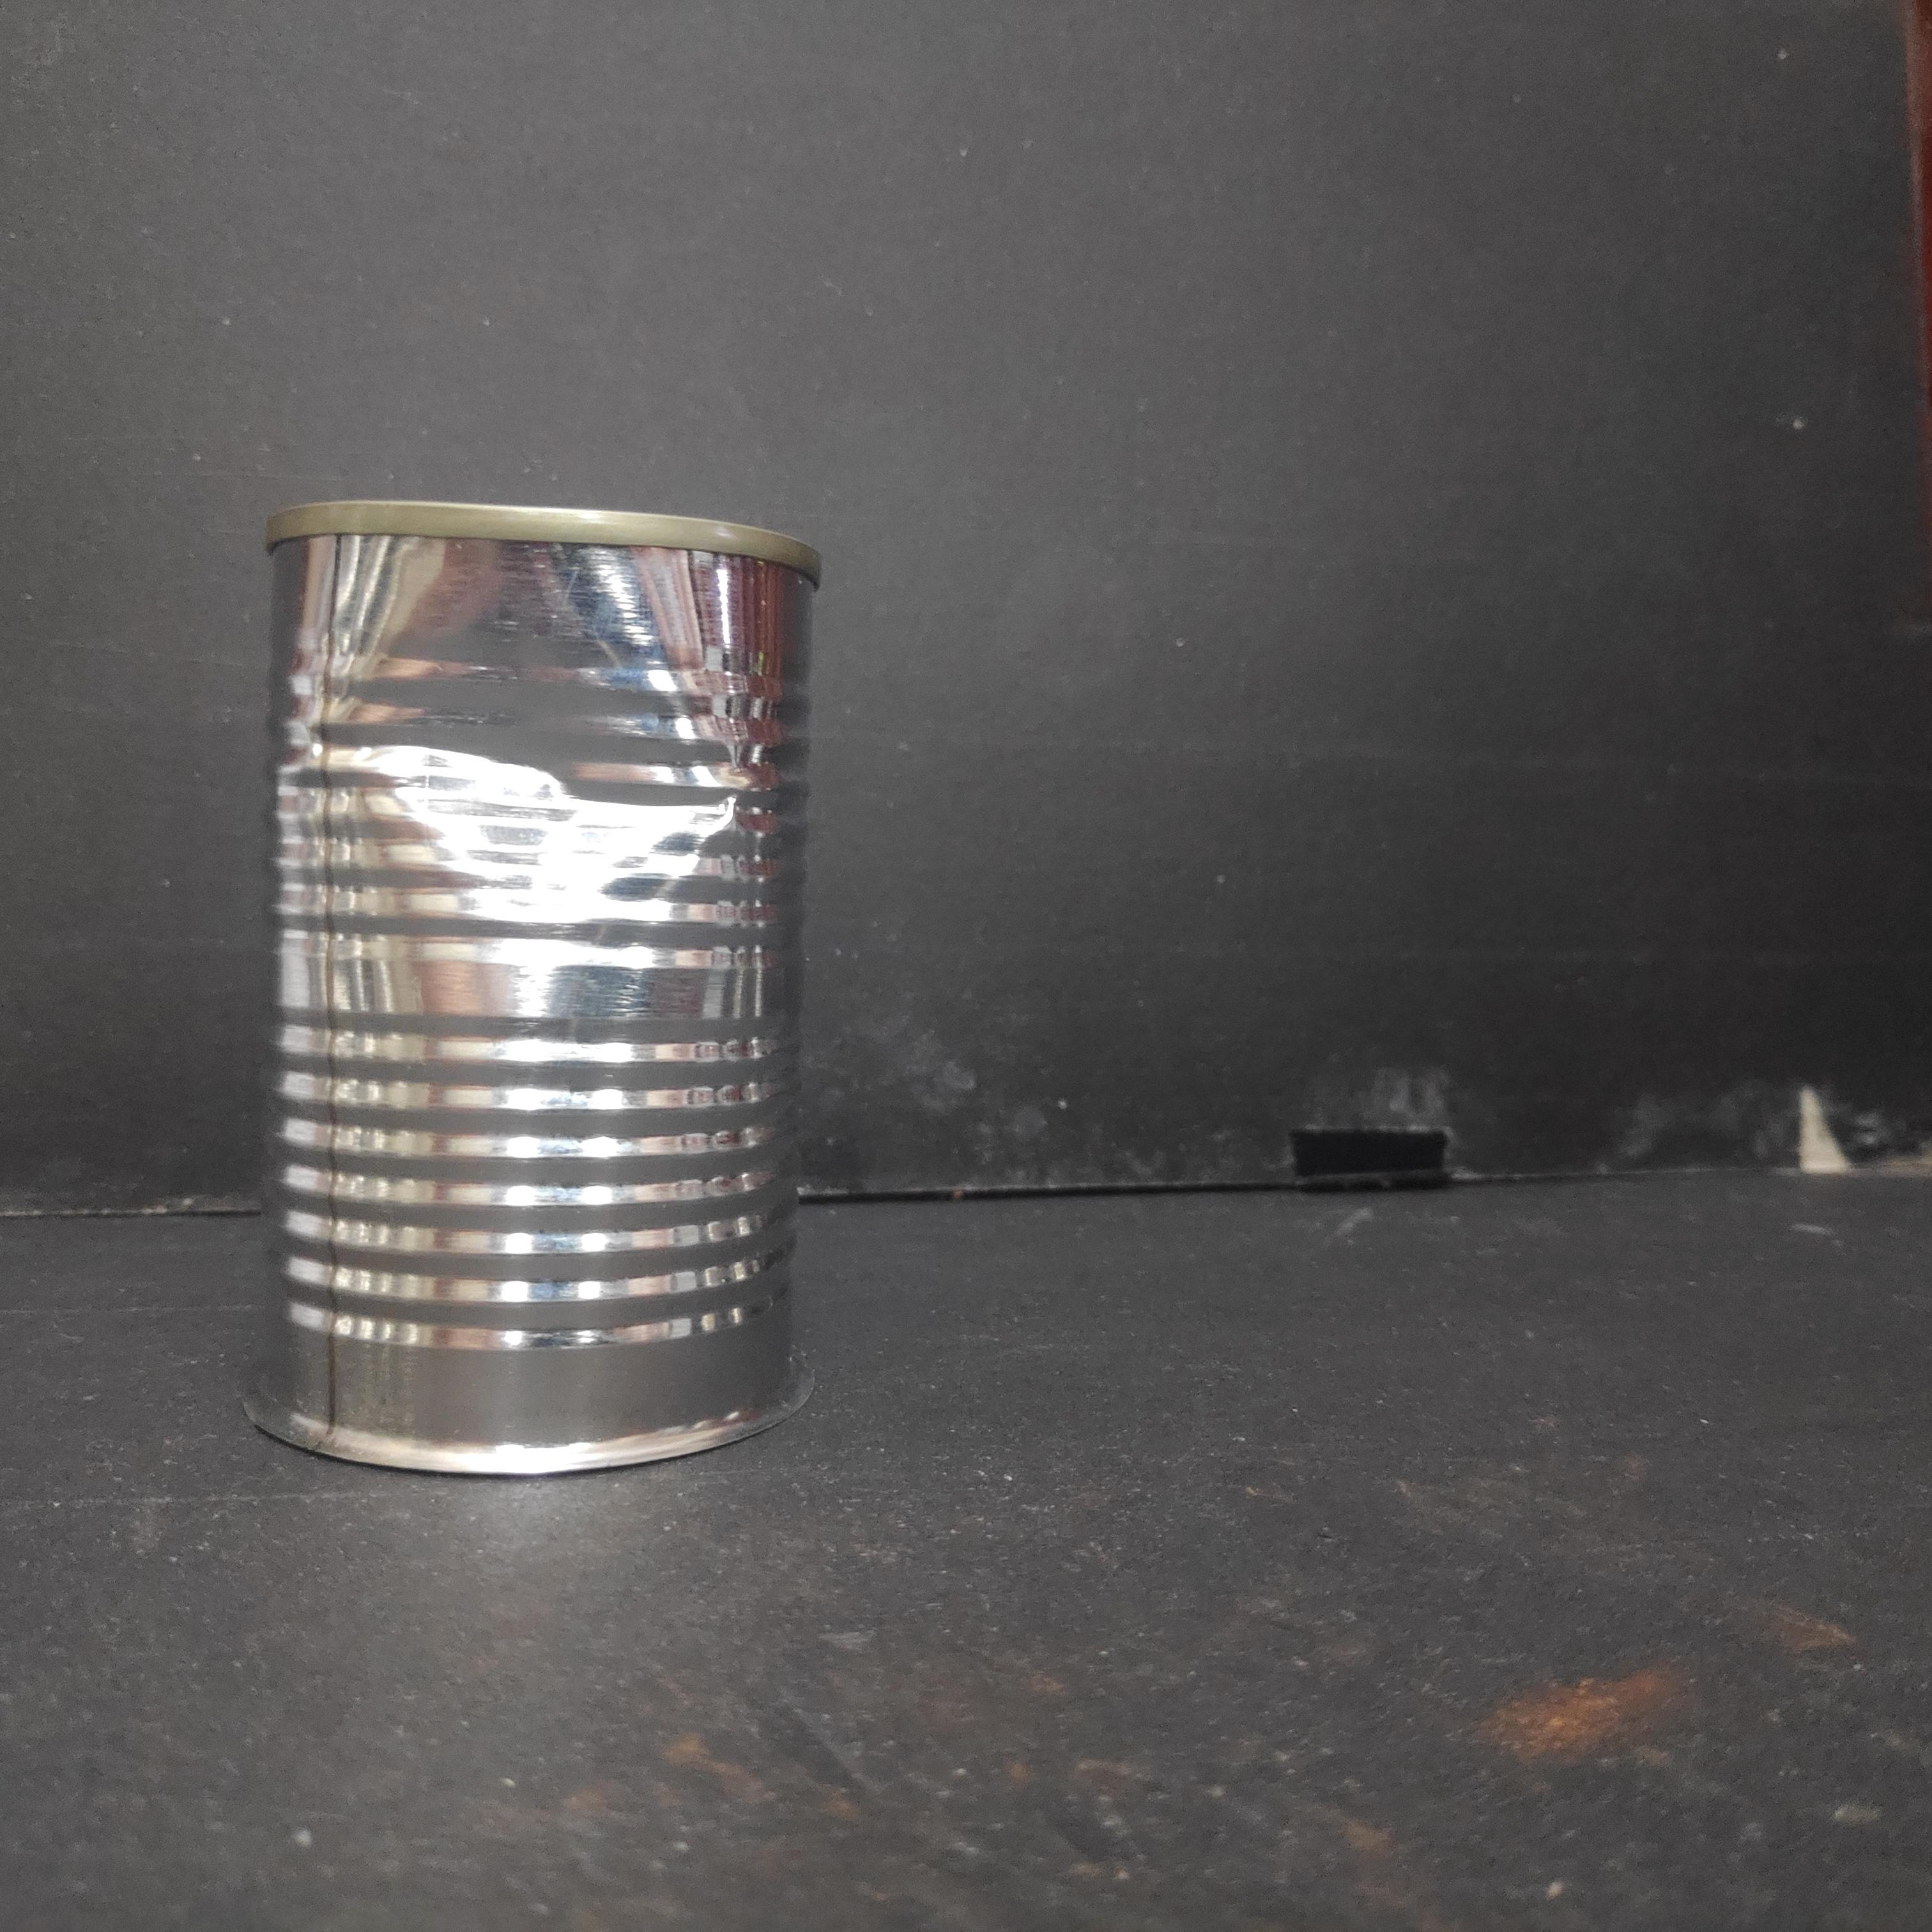Minor Defect: (248, 490, 830, 1488)
